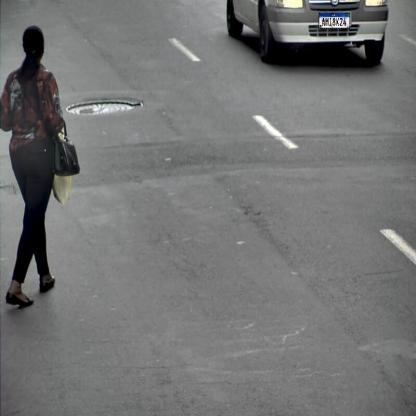PlacaM: (319, 12, 350, 29)
